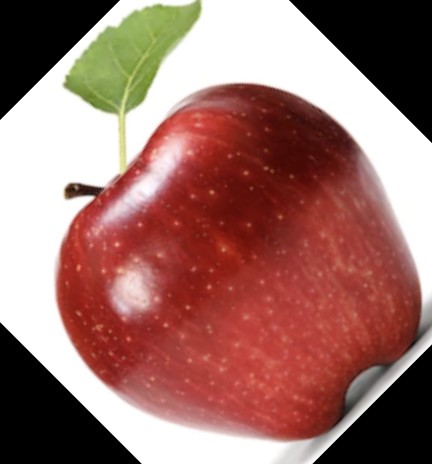fresh_apple: (53, 84, 422, 440)
